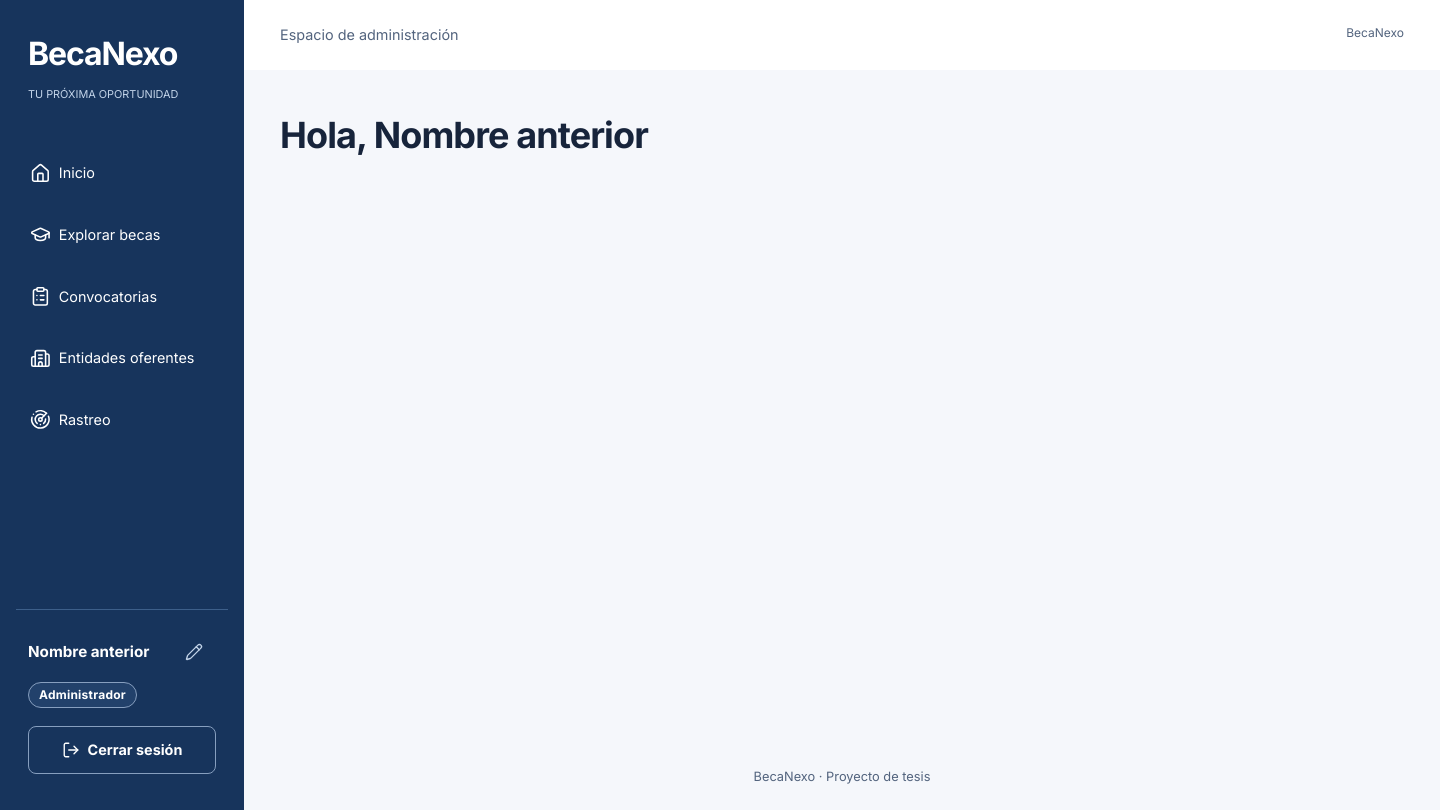
Scenario: error conserva contexto y entrada; permite corregir y reintentar
This screenshot has width=1440, height=810.
Click the button named "Editar nombre".
click(194, 652)  # box [172,630,216,674]
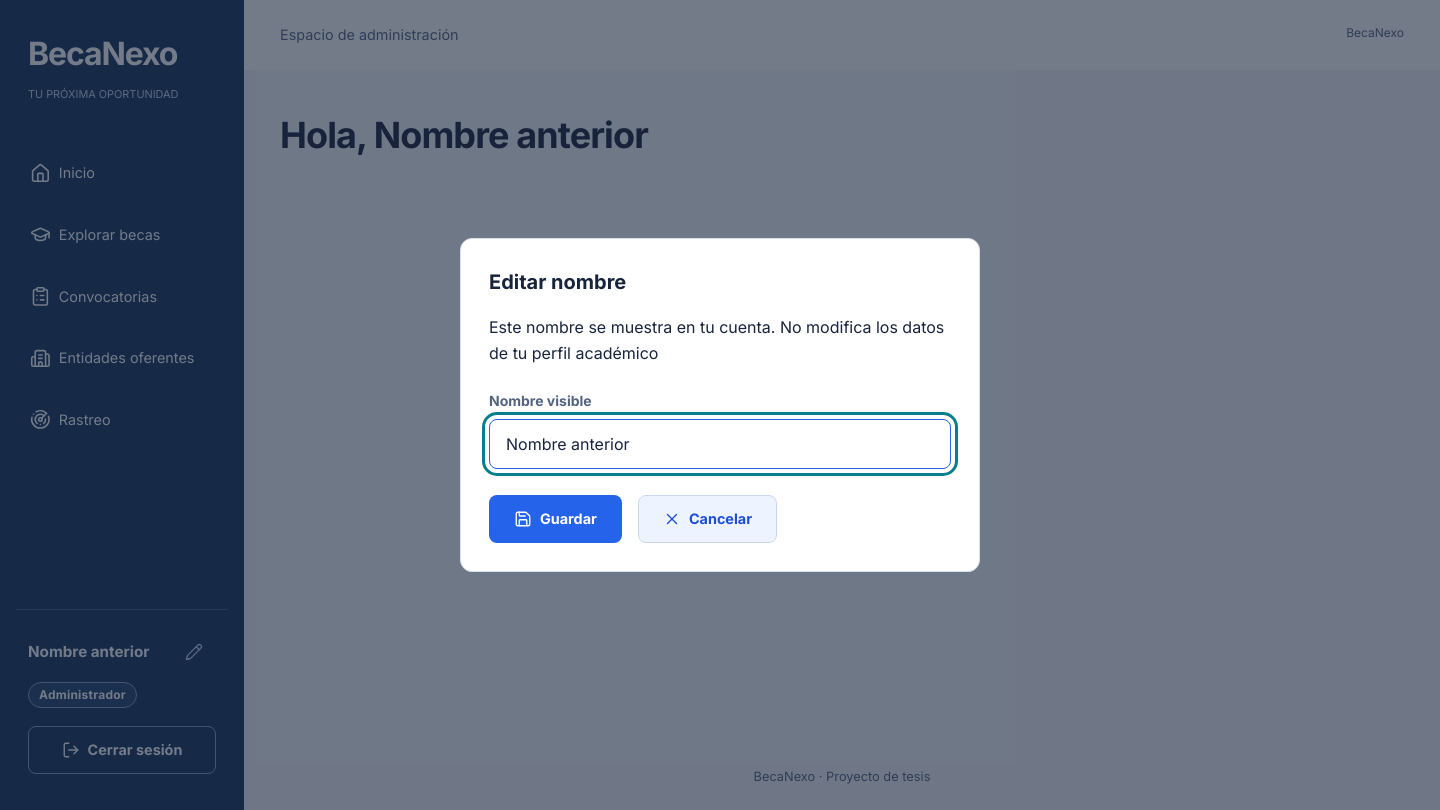
Replace the text in the field labelled "Nombre visible" with "Nuevo" at [720, 444], box [489,419,951,469]
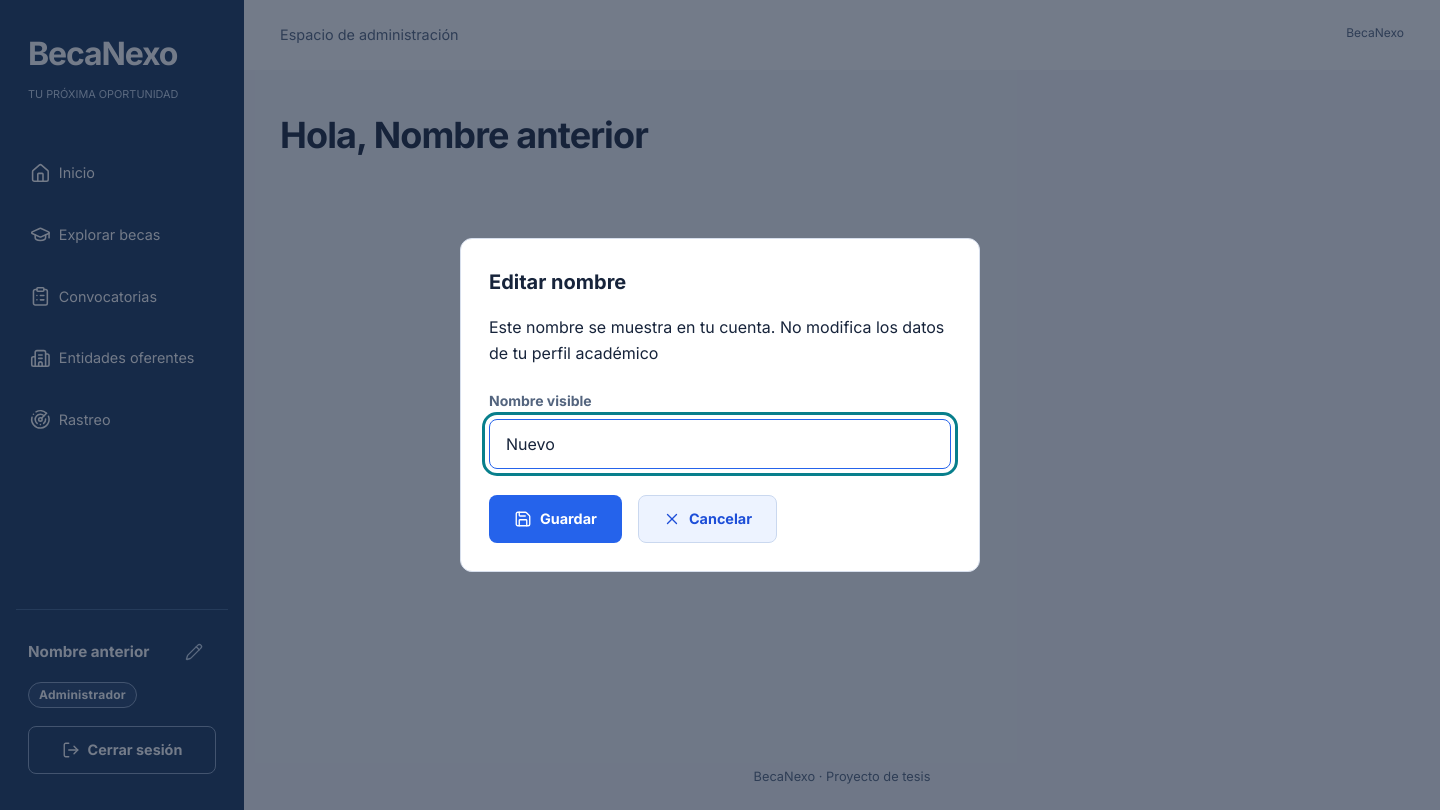
Click the button "Guardar".
click(555, 519)  # box [489,495,622,543]
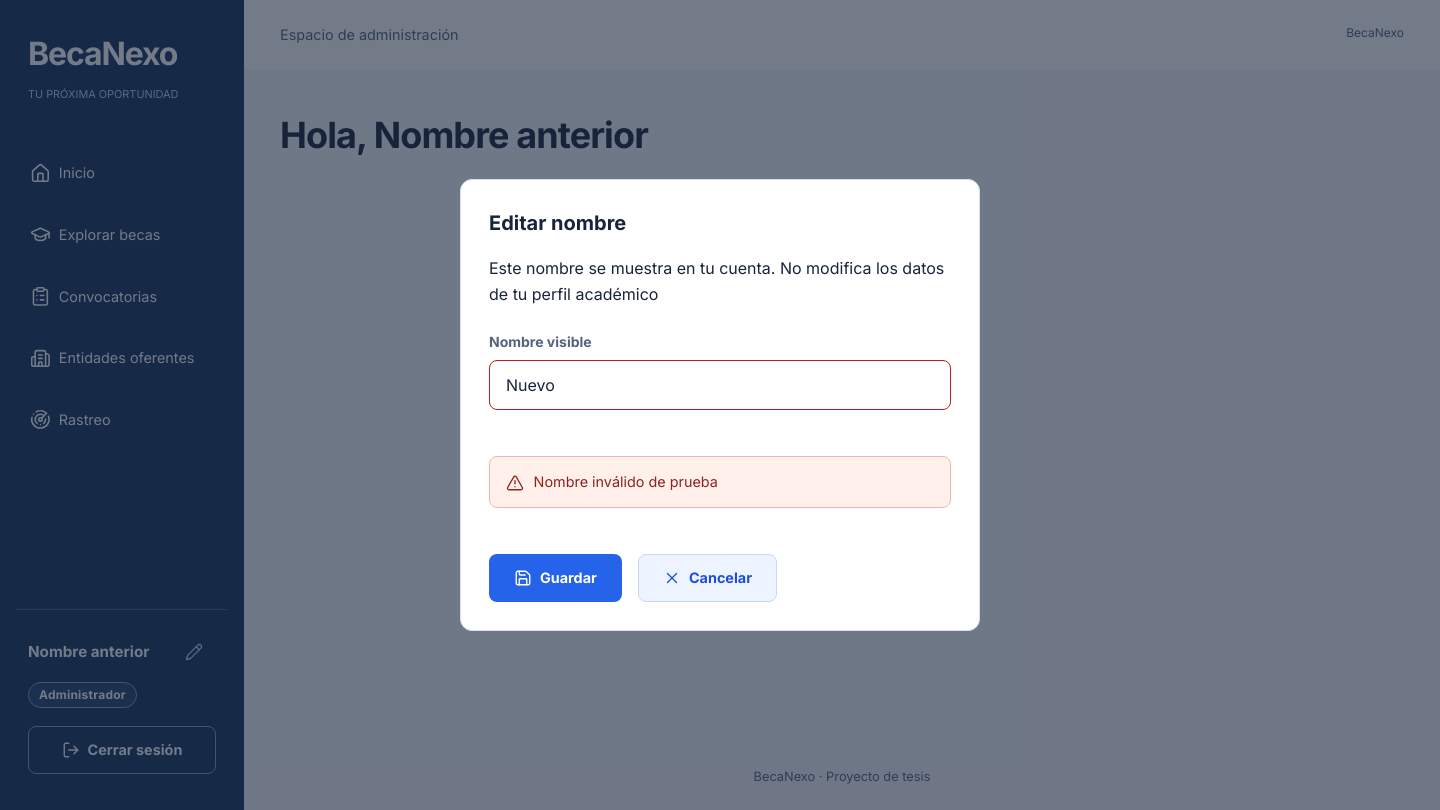
Check: the heading "Hola, Nombre anterior" is shown, box [280,113,648,157]
Check: the message reads "Nombre inválido de prueba", box [534,473,718,490]
Click the button "Guardar".
click(555, 578)  # box [489,554,622,602]
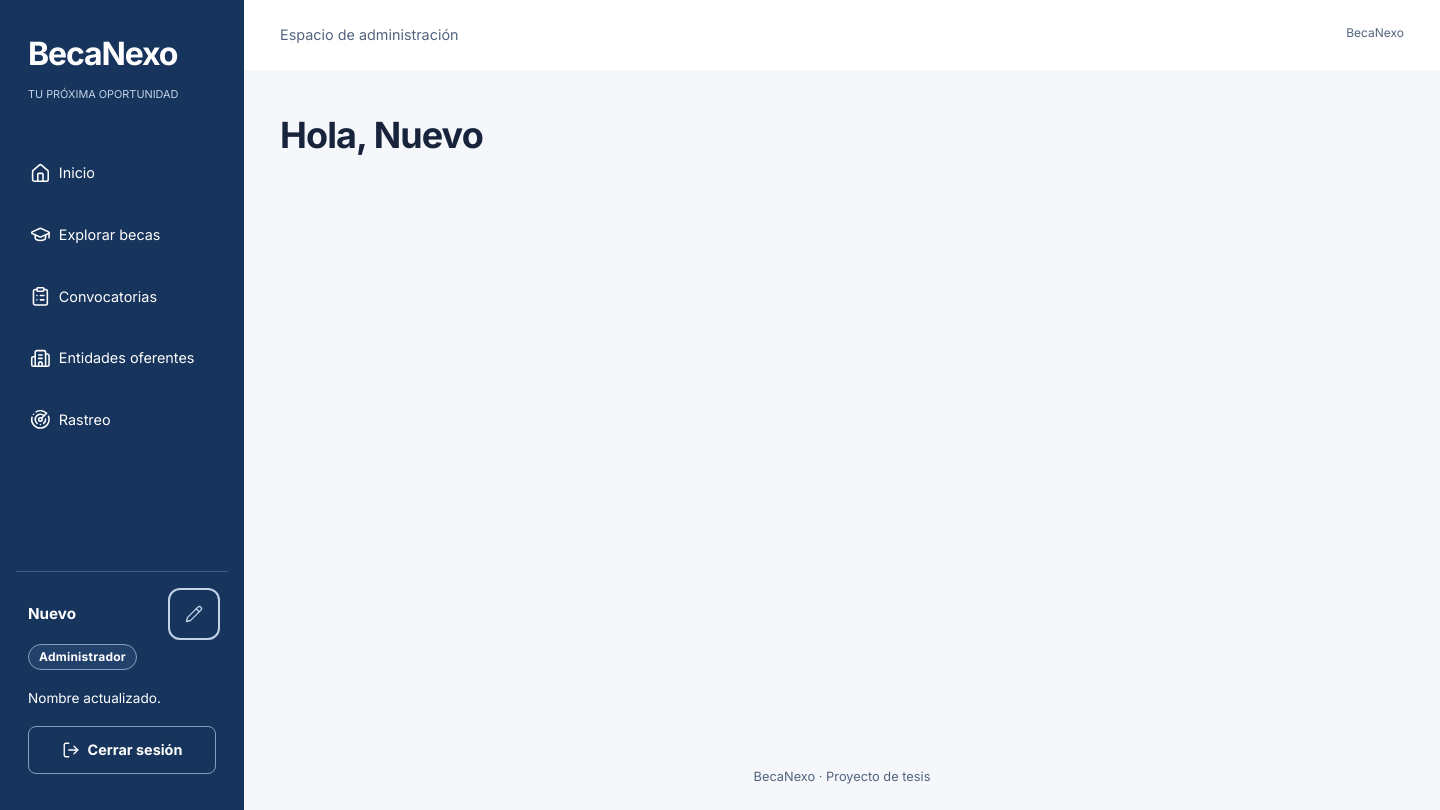
Check: the text "Nombre actualizado." is shown, box [28,690,161,706]
